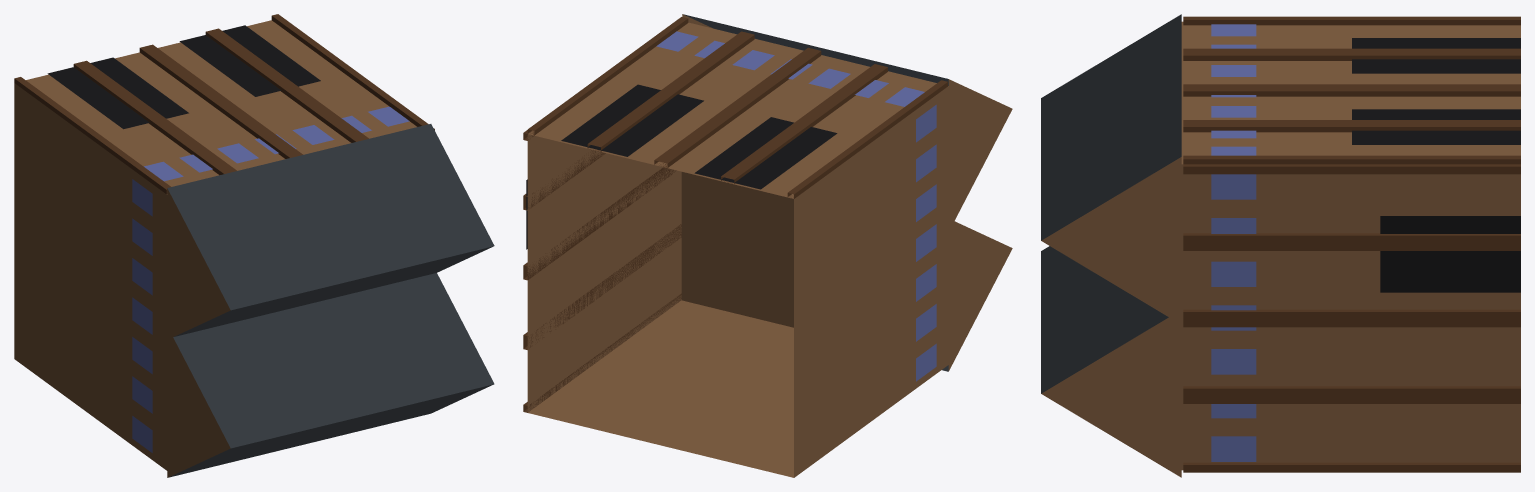
The model's file is construction_2.glb.
3 renders of one model, left to right at view 1: azimuth 30°, elevation 25°; view 2: azimuth 150°, elevation 25°; view 3: azimuth 270°, elevation 25°, orthographic. The views are drawn at different scales.
Visible parts, largest first — view 1: construction_2; view 2: construction_2; view 3: construction_2.
Part boxes in pixels (bbox=[...]): construction_2: bbox=[14, 14, 494, 477]; construction_2: bbox=[523, 14, 1012, 477]; construction_2: bbox=[1041, 14, 1520, 477].
Bounding box in the file's own units: 12.26 × 12.6 × 17.05.
